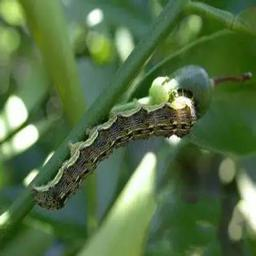Tobacco_budworm: (28, 90, 196, 213)
